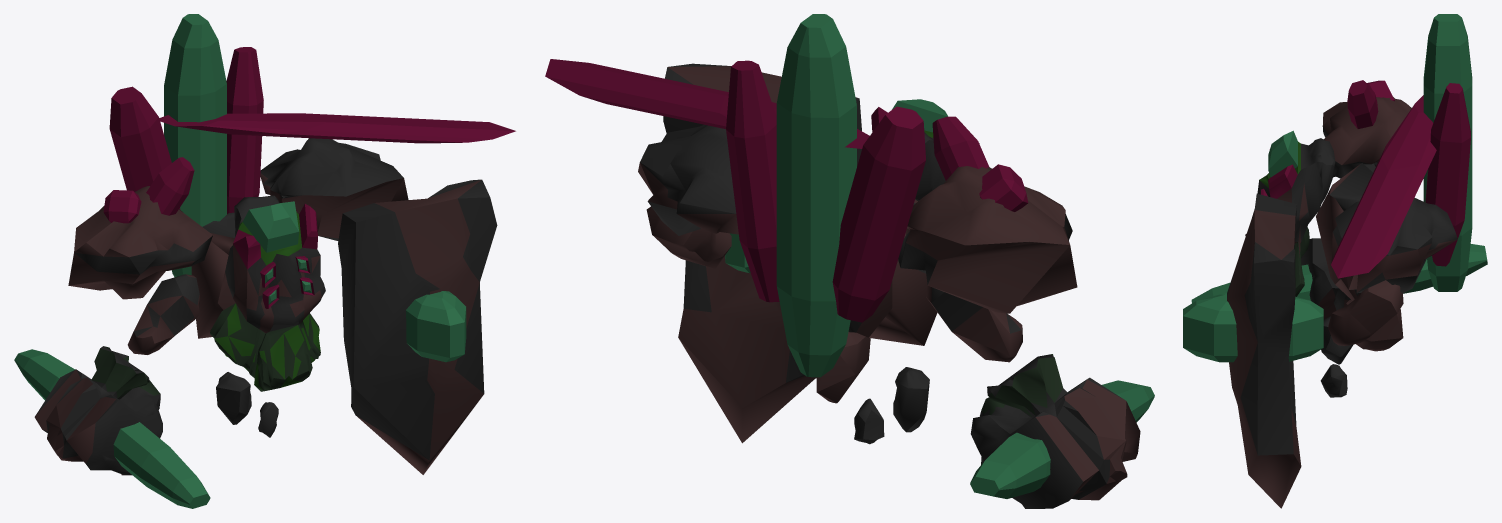
The model's file is Miniboss_V02.FBX.
3 renders of one model, left to right at view 1: azimuth 30°, elevation 25°; view 2: azimuth 150°, elevation 25°; view 3: azimuth 270°, elevation 25°, orthographic. The views are drawn at different scales.
Parts seen in each view (by area): view 1: Shield, Head, LowerArm R, Backcrystal M, Shoulder R, Shoulder L, SC R003, Backcrystal R, Backcrystal L, Backcrystal M001, Bicep R, Body (+4 smaller); view 2: Backcrystal M, LowerArm R, Shoulder R, Shield, Backcrystal L, Backcrystal R, Shoulder L, SC R003, Body, Bicep R, Bicep R001, SC R02 (+5 smaller); view 3: Shield, SC R003, Backcrystal M, Head, Backcrystal R, Backcrystal M001, Shoulder L, Shoulder R, LowerArm R, Bicep R001, Body, SC R02 (+3 smaller).
Part boxes in pixels (left/top/right/bottom): Shield: left=338, top=179, right=497, bottom=474; Head: left=210, top=195, right=325, bottom=391; LowerArm R: left=14, top=346, right=210, bottom=508; Backcrystal M: left=164, top=14, right=226, bottom=277; Shoulder R: left=68, top=186, right=212, bottom=299; Shoulder L: left=260, top=138, right=408, bottom=240; SC R003: left=159, top=113, right=515, bottom=143; Backcrystal R: left=226, top=47, right=263, bottom=213; Backcrystal L: left=109, top=86, right=180, bottom=209; Backcrystal M001: left=405, top=291, right=466, bottom=362; Bicep R: left=127, top=274, right=199, bottom=354; Body: left=191, top=212, right=235, bottom=338; Backcrystal M: left=776, top=14, right=856, bottom=377; LowerArm R: left=970, top=354, right=1154, bottom=508; Shoulder R: left=898, top=166, right=1077, bottom=313; Shield: left=663, top=63, right=861, bottom=443; Backcrystal L: left=832, top=106, right=925, bottom=322; Backcrystal R: left=726, top=60, right=779, bottom=302; Shoulder L: left=638, top=124, right=738, bottom=235; SC R003: left=545, top=59, right=869, bottom=148; Body: left=848, top=199, right=937, bottom=345; Bicep R: left=926, top=286, right=1022, bottom=362; Bicep R001: left=646, top=206, right=731, bottom=268; SC R02: left=932, top=116, right=989, bottom=180; Shield: left=1227, top=193, right=1301, bottom=508; SC R003: left=1331, top=95, right=1436, bottom=278; Backcrystal M: left=1423, top=14, right=1472, bottom=291; Head: left=1245, top=130, right=1335, bottom=296; Backcrystal R: left=1425, top=83, right=1470, bottom=266; Backcrystal M001: left=1183, top=294, right=1323, bottom=362; Shoulder L: left=1335, top=197, right=1457, bottom=293; Shoulder R: left=1322, top=97, right=1411, bottom=178; LowerArm R: left=1191, top=238, right=1487, bottom=319; Bicep R001: left=1328, top=280, right=1403, bottom=345; Body: left=1316, top=163, right=1373, bottom=300; SC R02: left=1347, top=80, right=1378, bottom=128.
Bounding box in the file's own units: 25.07 × 14.64 × 22.39.
